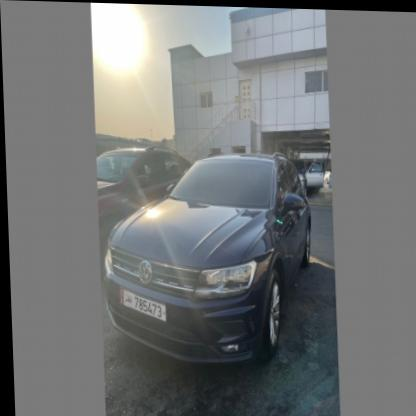np: (115, 282, 165, 326)
